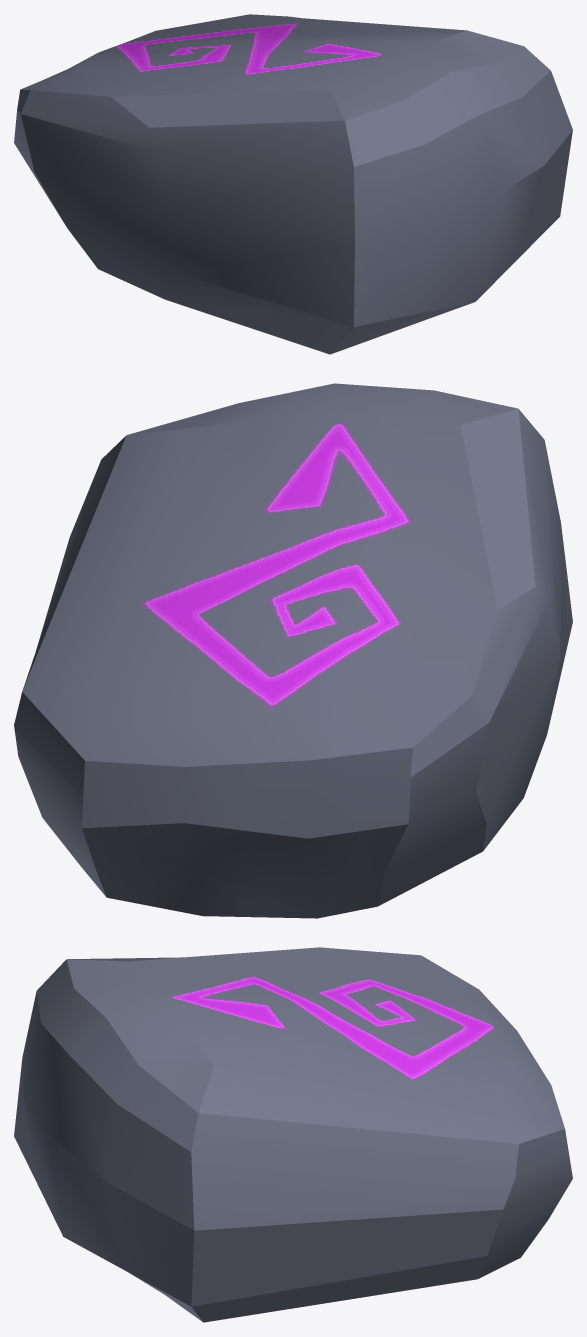
File: RuneRock_Square.fbx
3 renders of one model, top to bottom at view 1: azimuth 30°, elevation 25°; view 2: azimuth 150°, elevation 25°; view 3: azimuth 270°, elevation 25°, orthographic. The views are drawn at different scales.
Parts seen in each view (by area): view 1: RuneRock; view 2: RuneRock; view 3: RuneRock.
Boxes of the visible parts, bbox=[...] form: RuneRock: bbox=[14, 14, 572, 354]; RuneRock: bbox=[14, 383, 572, 918]; RuneRock: bbox=[14, 947, 572, 1322].
Size of the model in its own units: 199 by 116 by 216.
